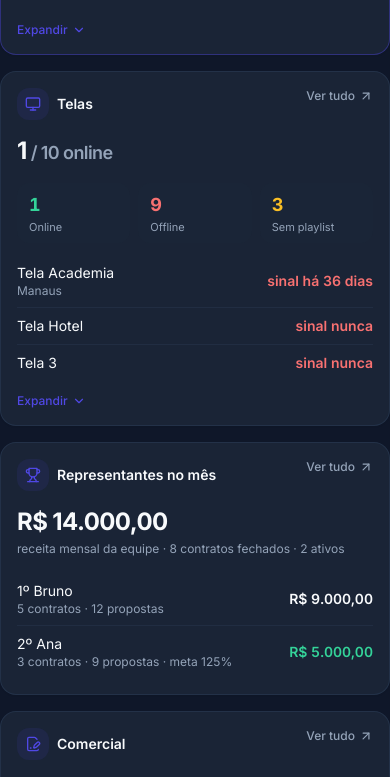
Scenario: CorporateCommandCenter (Central do Dia do Owner/Admin) › mostra alertas, resumos reais e cada card leva para a sua tela
The width and height of the screenshot is (390, 777).
(page scrolled)
Check: the text "1º Bruno" is shown, box [17,582,73,599]
Check: the text "2º Ana" is shown, box [17,635,62,652]
Click the button "Expandir" below "Tela 3": [51, 401] box [17,393,86,409]
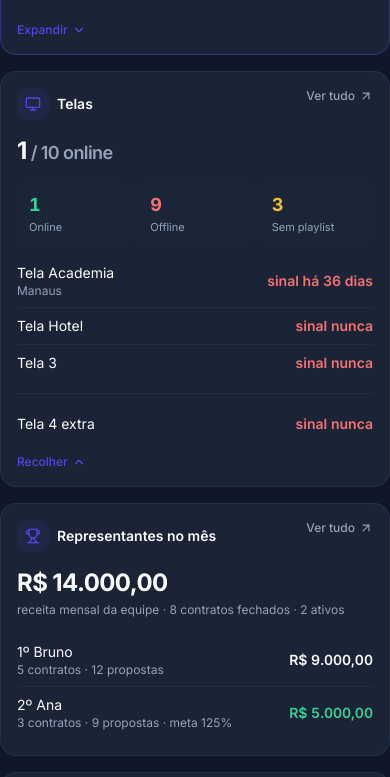
Check: the text "Tela 4 extra" is shown, box [17,414,95,434]
